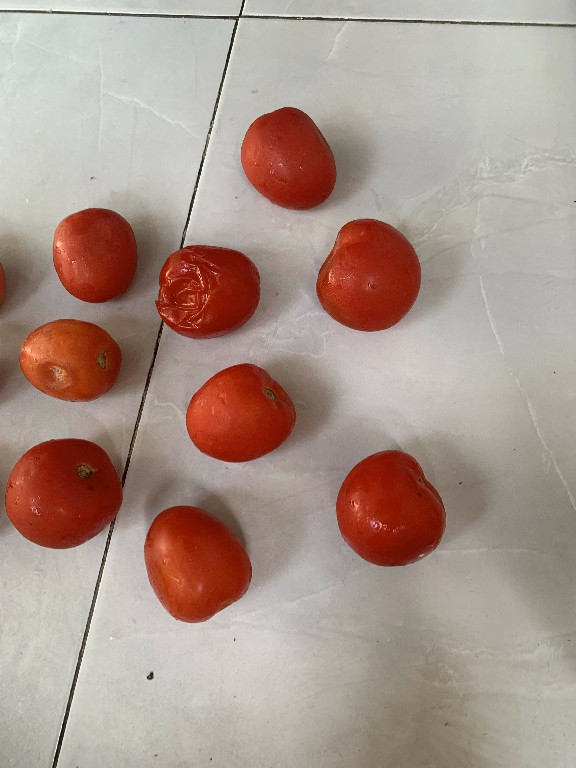NG: (150, 242, 270, 342), (15, 316, 123, 401)
OK: (323, 438, 453, 579), (0, 434, 133, 564), (305, 213, 430, 342), (136, 502, 258, 629), (177, 359, 301, 470), (232, 97, 339, 212), (45, 199, 139, 308)
